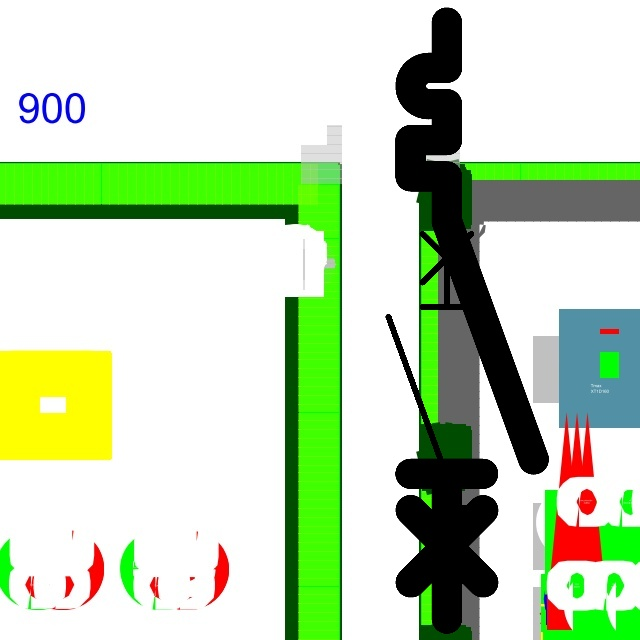interruptor_termomagnetico: (395, 7, 548, 634), (378, 199, 482, 622)
